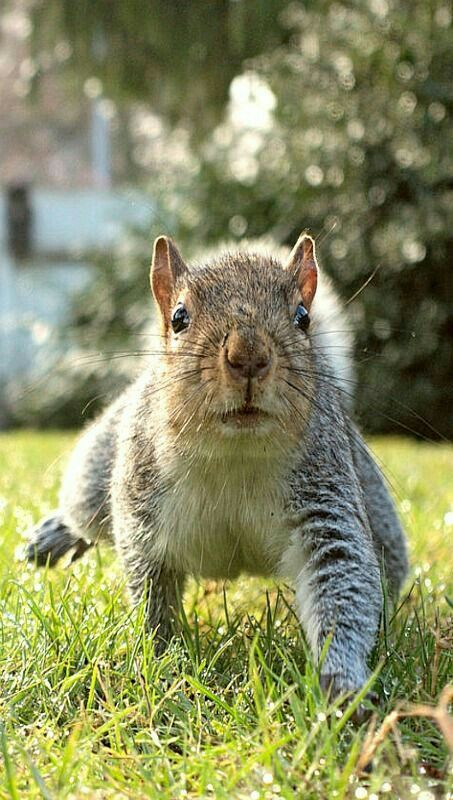Ardilla: (93, 228, 407, 688)
